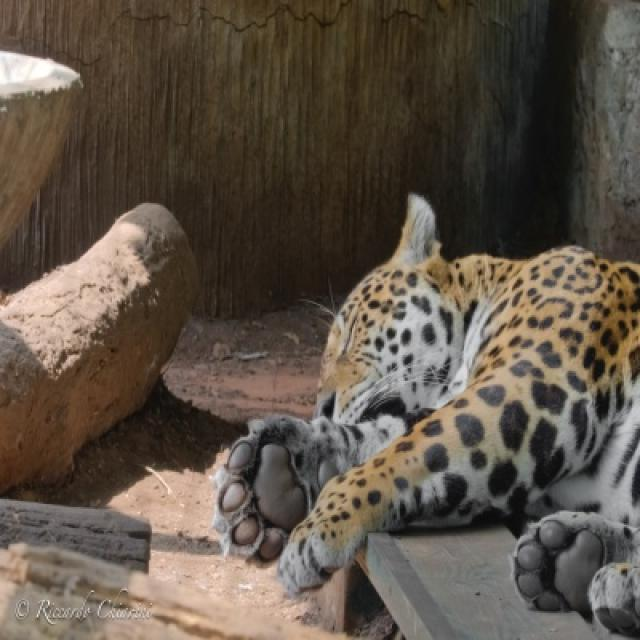Jaguar: (216, 194, 638, 638)
